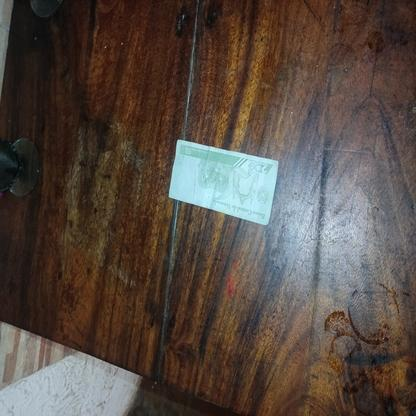fifty-back-vef: (167, 140, 278, 225)
